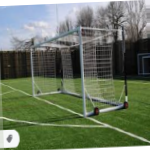goals: (28, 22, 125, 118)
